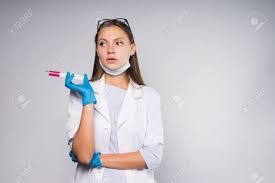Wore Mask Incorrectly: (92, 17, 152, 81)
